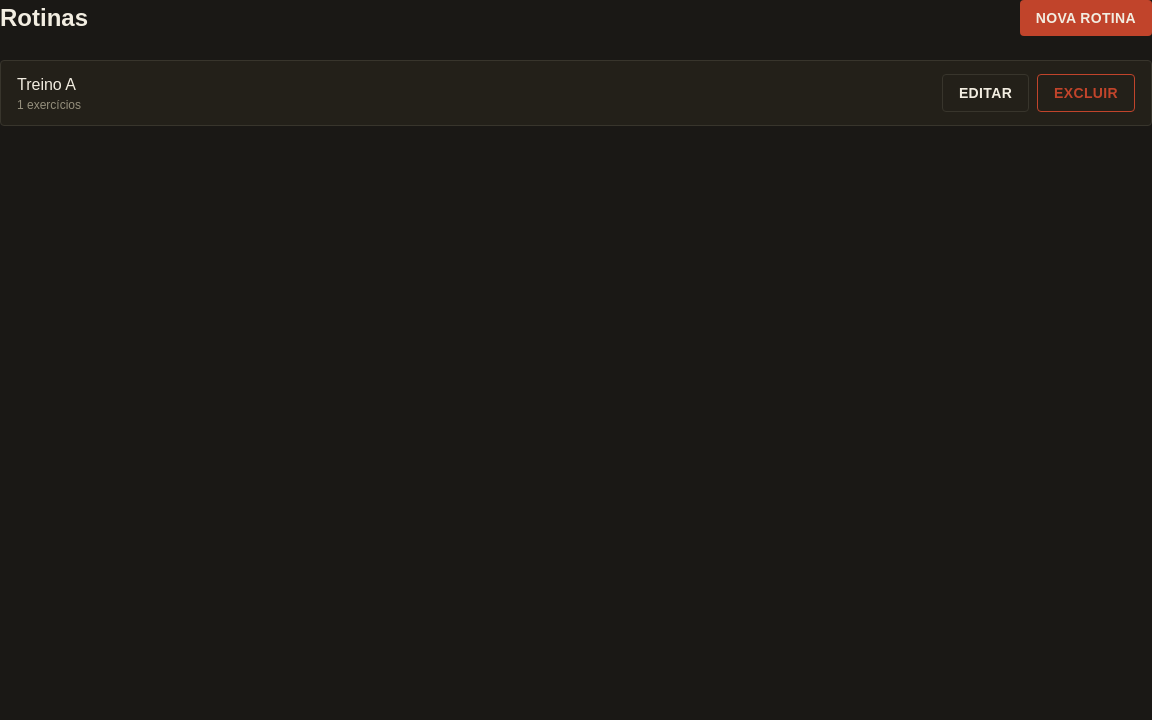
Test case: RoutinesListPage › deletes a routine after confirmation, without a page reload
Check: the text "Treino A" is shown, box [17,76,76,93]
Click the button "Excluir".
click(1086, 93)  # box [1037,74,1135,112]
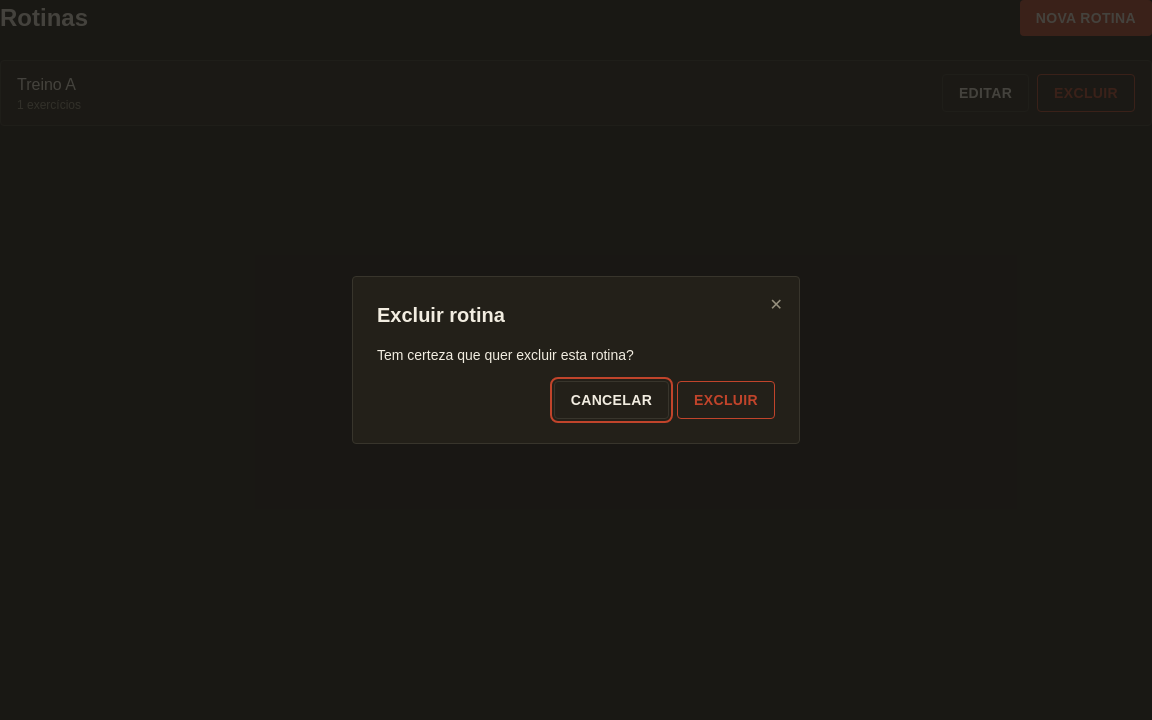
Click the button "Excluir".
click(726, 400)  # box [677,381,775,419]
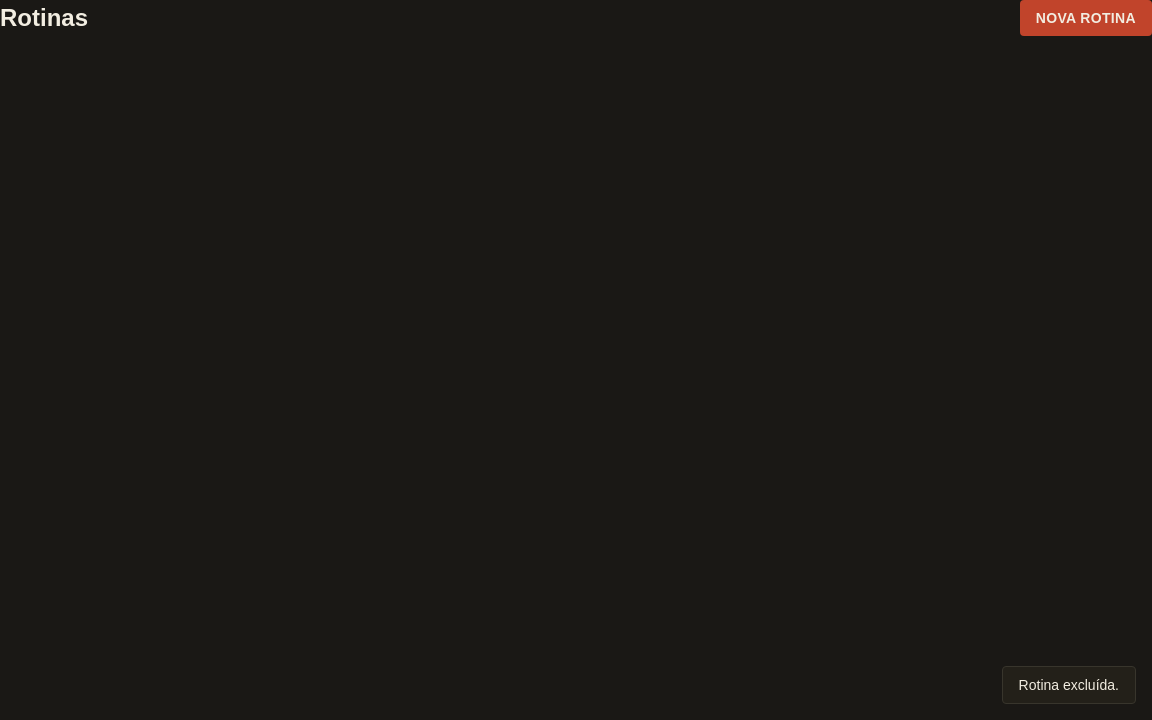
Check: the text "Treino A" is gone
